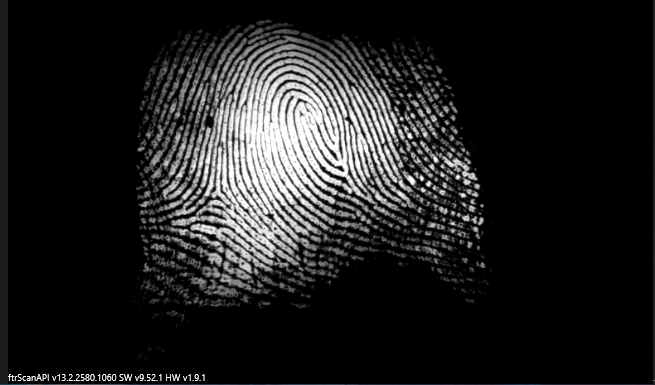nucelo: (285, 96, 328, 144)
verticilo: (198, 182, 233, 212), (336, 160, 356, 181)
